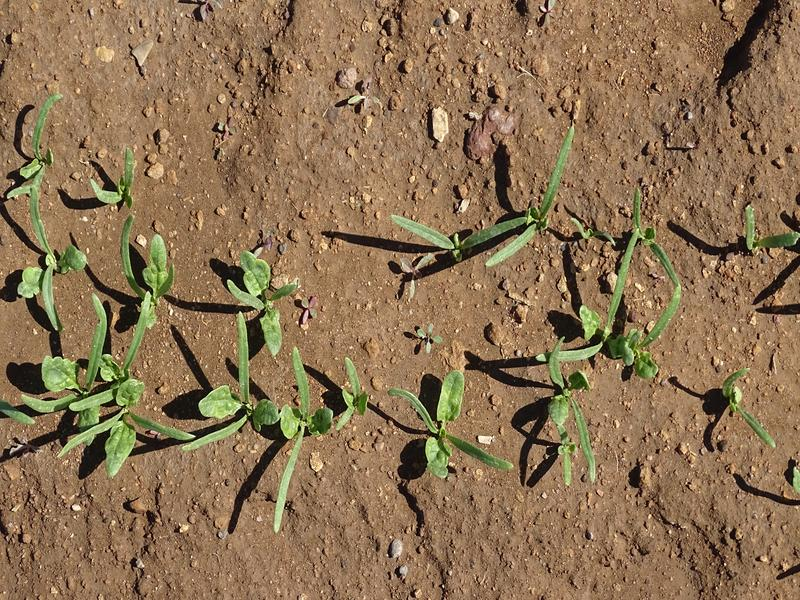Espinaca: (393, 144, 680, 506), (14, 112, 198, 466), (210, 255, 372, 527), (713, 362, 772, 447), (736, 200, 800, 262)
